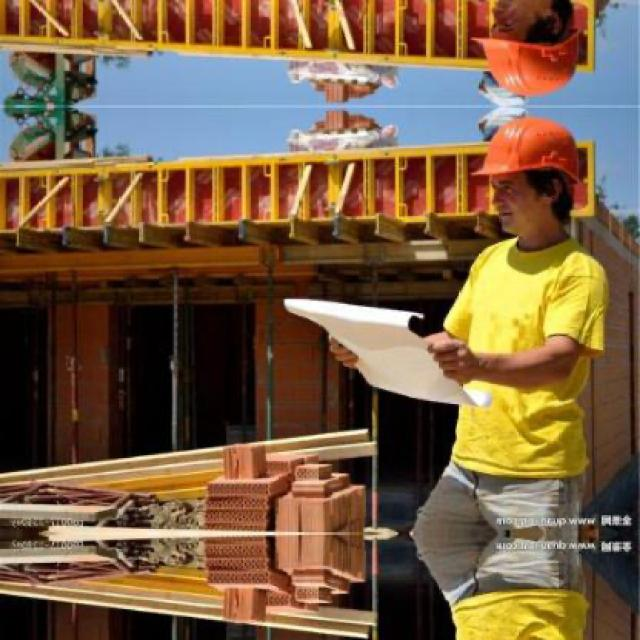con casco: (458, 107, 595, 248)
